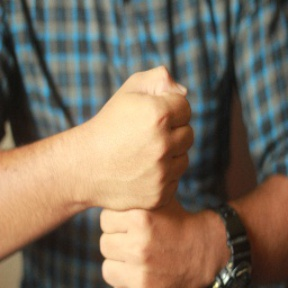G: (83, 63, 208, 288)
